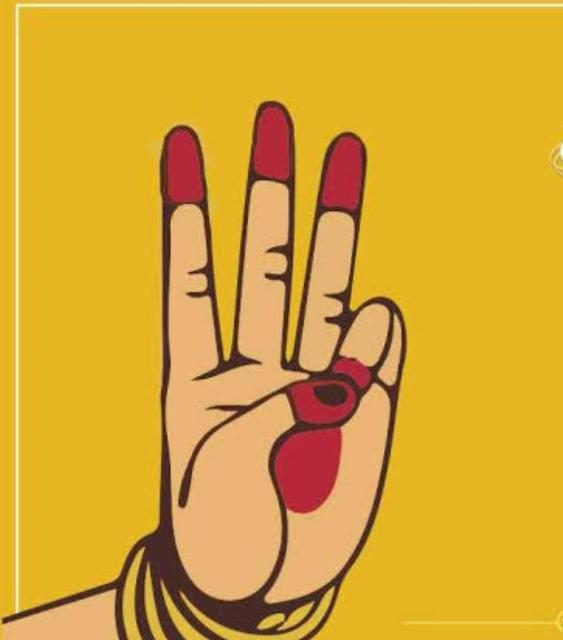trishool: (109, 100, 408, 640)
